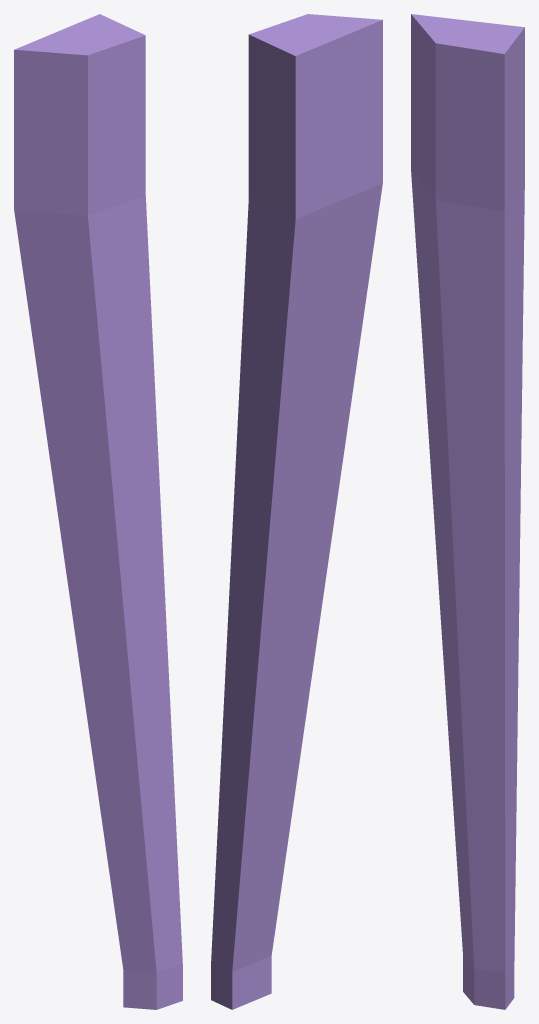
Rendered from Gwangju.obj.
3 views of the same model, side by side, from view 1: azimuth 30°, elevation 25°; view 2: azimuth 210°, elevation 25°; view 3: azimuth 330°, elevation 25° (orthographic). The views are drawn at different scales.
Visible parts, largest first — view 1: Gwangju; view 2: Gwangju; view 3: Gwangju.
Part boxes in pixels (<box>): Gwangju: <box>14,14,182,1009</box>; Gwangju: <box>211,14,382,1009</box>; Gwangju: <box>411,14,524,1009</box>.
Size of the model in its own units: 7.62 by 52.63 by 5.41.
